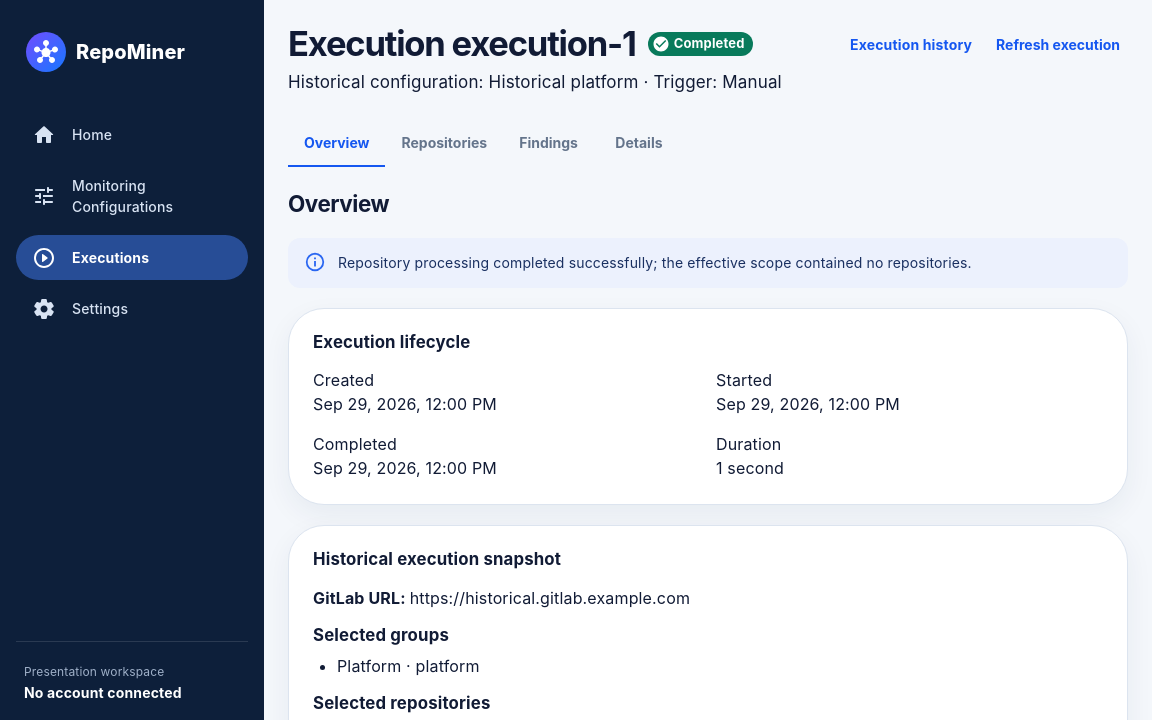
Test: keeps the selected tab and shows normalized feedback when refresh fails
Expected: the heading "Execution execution-1" is shown, 288,24 -> 636,64
Click the tab "Findings".
click(549, 143)  # box 503,119 -> 594,167
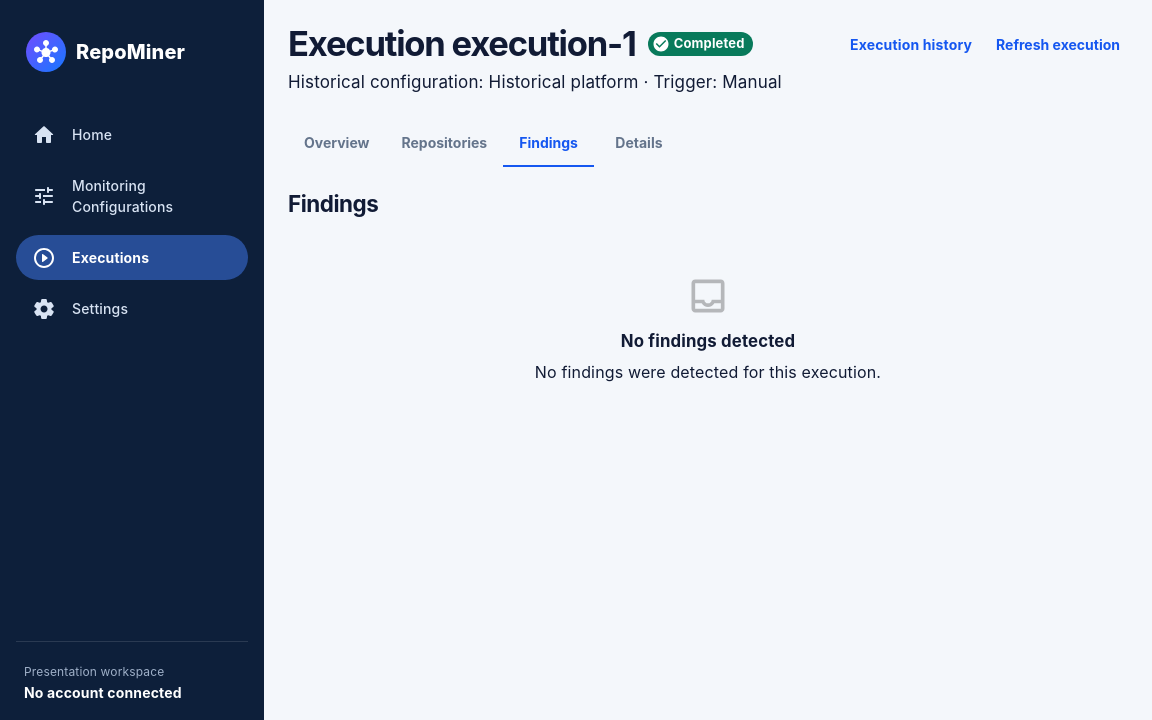
Click the button "Refresh execution".
click(1058, 45)  # box 988,24 -> 1128,66
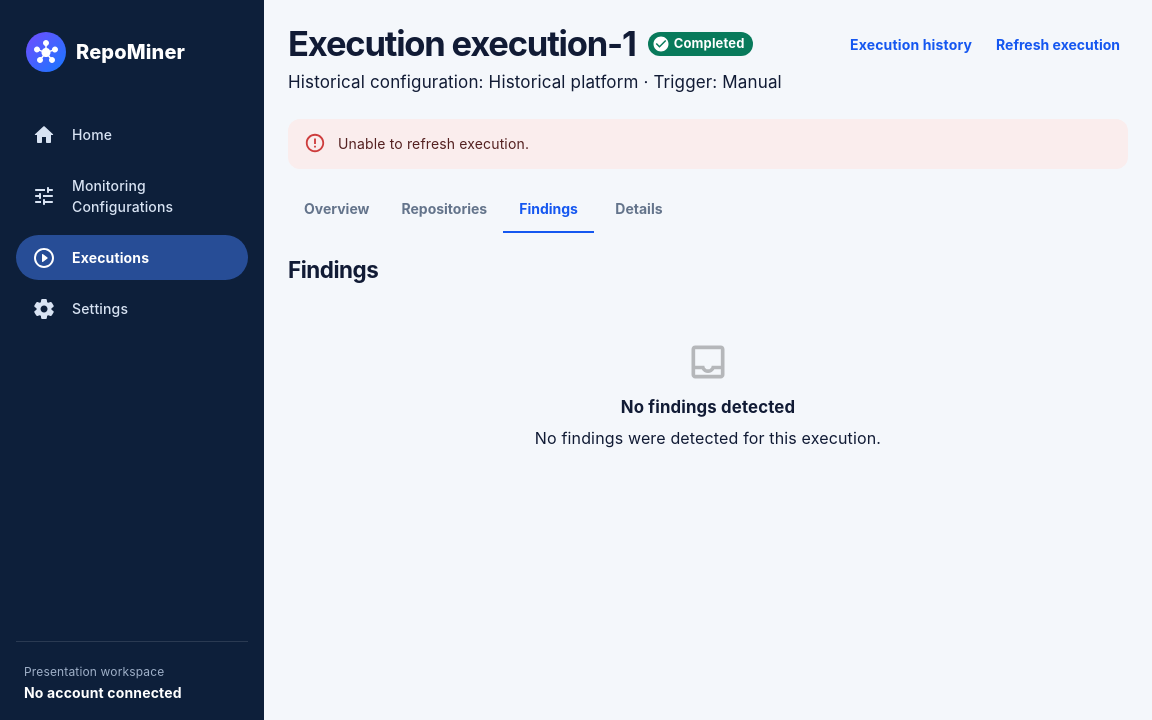
Expected: the text "Unable to refresh execution." is shown, 338,135 -> 529,152
